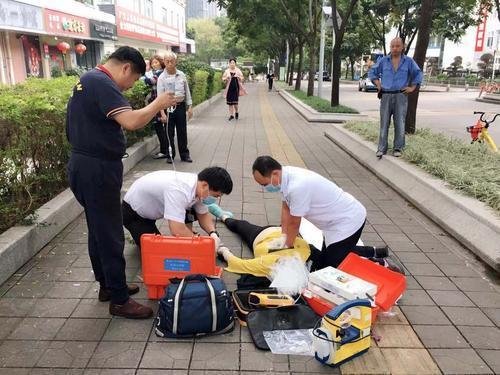Fall-Detected: (201, 201, 331, 296)
